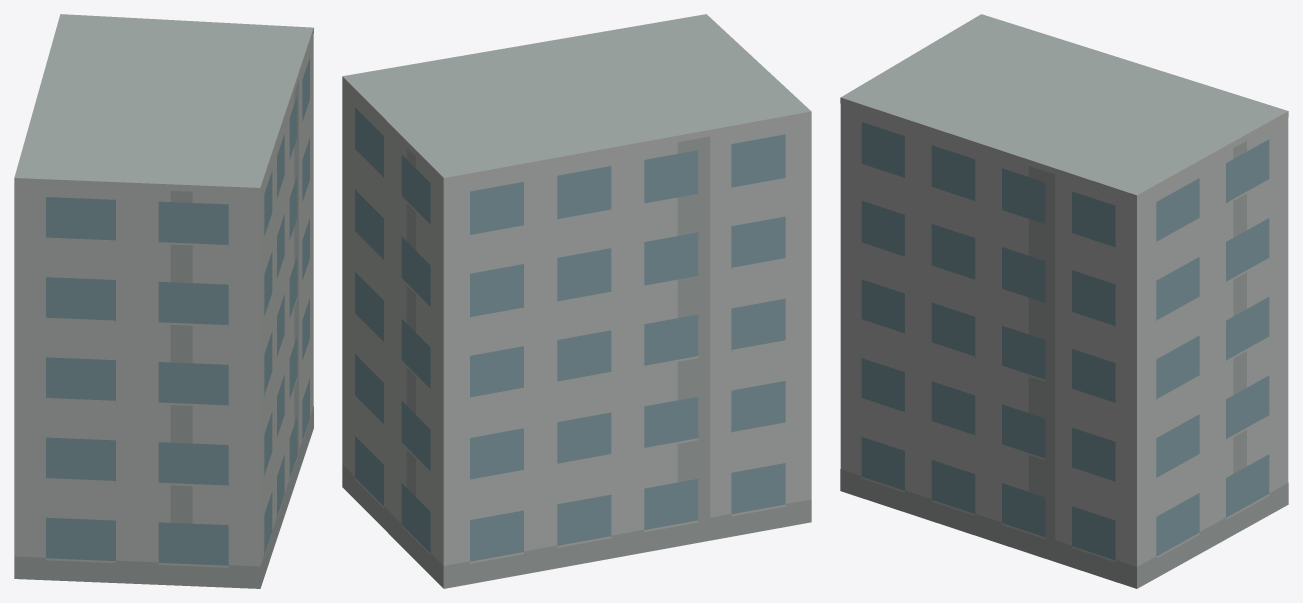
File: survey-upis-33028017.glb
3 views of the same model, side by side, from view 1: azimuth 30°, elevation 25°; view 2: azimuth 150°, elevation 25°; view 3: azimuth 270°, elevation 25° (orthographic). The views are drawn at different scales.
Parts seen in each view (by area): view 1: survey-upis-33028017.tmp; view 2: survey-upis-33028017.tmp; view 3: survey-upis-33028017.tmp.
Part boxes in pixels (box(x1,y1,x2,y2)): survey-upis-33028017.tmp: box(14, 14, 313, 588); survey-upis-33028017.tmp: box(342, 14, 811, 588); survey-upis-33028017.tmp: box(840, 14, 1288, 588).
Size of the model in its own units: 15.08 by 15.25 by 15.74.
